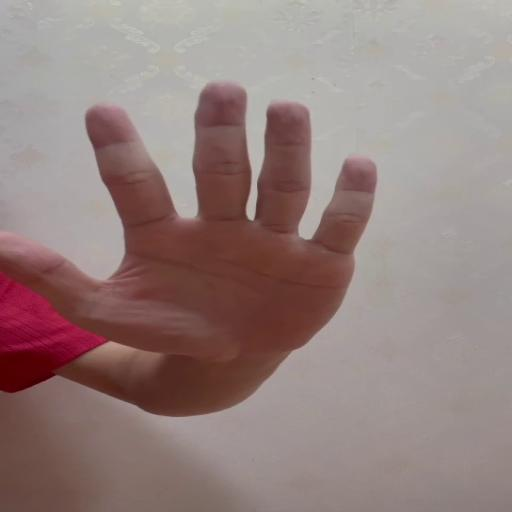open_palm: (0, 78, 378, 360)
